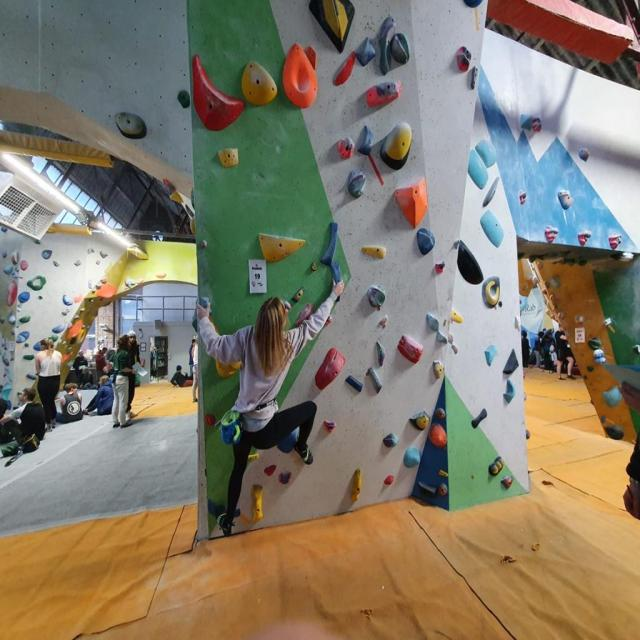Crimp: (256, 227, 308, 264), (373, 14, 401, 73), (215, 143, 241, 170), (358, 242, 394, 260), (262, 459, 280, 478), (322, 418, 339, 436), (432, 258, 448, 276), (384, 470, 395, 489), (437, 481, 450, 497), (436, 468, 452, 480), (502, 476, 516, 489), (378, 314, 388, 328)
Jug: (450, 232, 486, 291), (425, 310, 441, 334), (433, 331, 447, 343)
Pinch: (318, 218, 341, 265), (357, 35, 377, 72), (250, 478, 266, 523), (328, 261, 345, 301), (364, 364, 384, 398), (371, 337, 390, 370), (175, 84, 195, 114), (351, 463, 362, 505), (199, 294, 217, 318), (469, 61, 479, 94)
Sloper: (185, 48, 247, 136), (389, 171, 431, 236), (282, 36, 318, 111), (239, 50, 278, 111), (379, 119, 415, 174), (312, 346, 348, 398), (464, 139, 491, 197), (394, 328, 429, 366), (361, 78, 405, 108), (478, 204, 506, 251), (333, 47, 358, 95), (473, 132, 504, 170), (424, 420, 451, 453), (501, 346, 521, 383), (415, 223, 435, 259), (405, 408, 435, 432), (468, 404, 491, 431), (400, 443, 420, 474), (488, 449, 505, 482), (483, 340, 500, 369), (380, 431, 400, 450)
